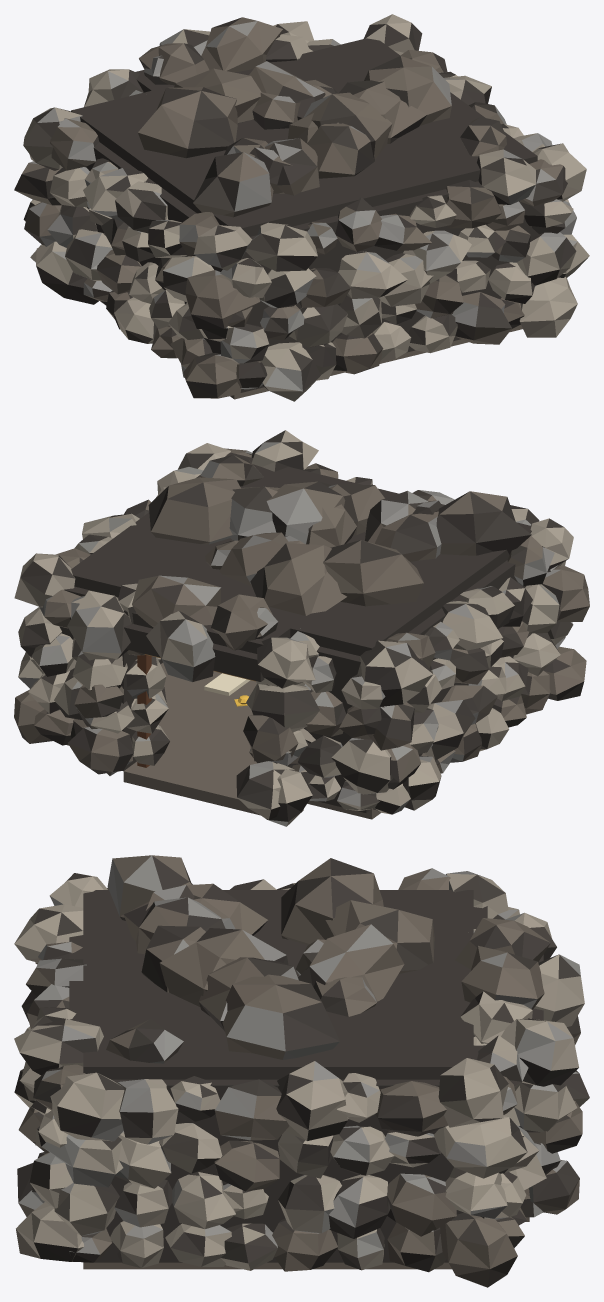
File: Cave_Mines_CrewPocket.fbx
The picture shows the model from 3 angles, top to bottom: view 1: azimuth 30°, elevation 25°; view 2: azimuth 150°, elevation 25°; view 3: azimuth 270°, elevation 25°; orthographic projection. The views are drawn at different scales.
Parts seen in each view (by area): view 1: Decor, Ceiling2, Wall3, Wall6, Floor2; view 2: Decor, Ceiling2, Floor2, Floor1, Wall8, Wall1, Wall6, Ceiling1, Wall5; view 3: Decor, Ceiling2, Wall4, Floor2, Wall3.
Part boxes in pixels (box(x1,y1,x2,y2)): Decor: box(14, 14, 589, 401); Ceiling2: box(71, 38, 537, 236); Wall3: box(240, 181, 538, 392); Wall6: box(85, 142, 222, 353); Floor2: box(100, 301, 522, 399); Decor: box(14, 430, 589, 826); Ceiling2: box(71, 452, 531, 655); Floor2: box(66, 663, 380, 819); Floor1: box(123, 757, 260, 815); Wall8: box(124, 624, 264, 681); Wall1: box(309, 646, 371, 812); Wall6: box(373, 560, 526, 809); Ceiling1: box(123, 610, 290, 653); Wall5: box(122, 651, 137, 771); Decor: box(14, 855, 589, 1287); Ceiling2: box(83, 890, 473, 1079); Wall4: box(83, 1079, 463, 1262); Floor2: box(83, 1262, 451, 1269); Wall3: box(69, 935, 83, 1022).
Bounding box in the file's own units: 40.48 × 20.61 × 41.29.
